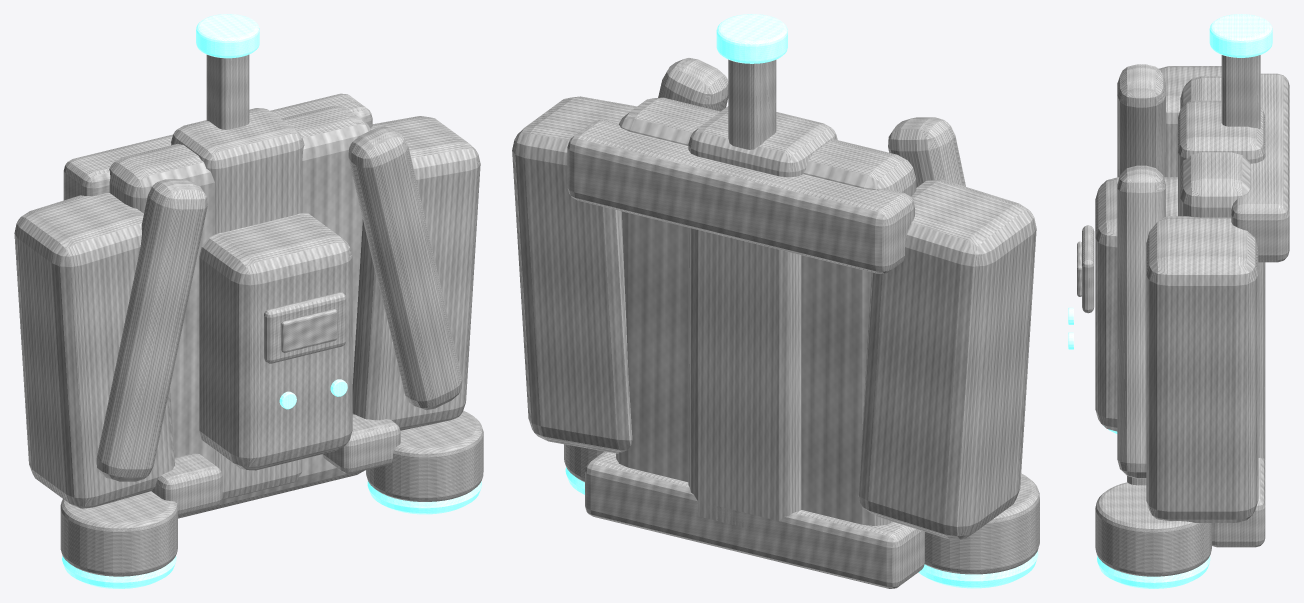
The model's file is hoverpack_variant_d.glb.
The picture shows the model from 3 angles, left to right: view 1: azimuth 30°, elevation 25°; view 2: azimuth 150°, elevation 25°; view 3: azimuth 270°, elevation 25°; orthographic projection. The views are drawn at different scales.
Visible parts, largest first — view 1: Folded stabilizer module, Power receiver housing.003, Dorsal mounting plate.003, Folded stabilizer module.001, Shoulder strap.006, Shoulder strap.007, Central spine armor, Lower lift emitter, Lower lift emitter.001, Shoulder yoke.003, Top wireless pickup mast, Lower strap clasp.006 (+6 smaller); view 2: Folded stabilizer module, Dorsal mounting plate.003, Central spine armor, Folded stabilizer module.001, Shoulder yoke.003, Waist stabilizer.003, Lower lift emitter, Top wireless pickup mast, Shoulder strap.006, Pickup antenna cap, Shoulder strap.007, Emitter rim.001 (+1 smaller); view 3: Folded stabilizer module.001, Shoulder strap.007, Lower lift emitter.001, Shoulder yoke.003, Power receiver housing.003, Central spine armor, Dorsal mounting plate.003, Shoulder strap.006, Top wireless pickup mast, Pickup antenna cap, Folded stabilizer module, Waist stabilizer.003 (+2 smaller).
Boxes of the visible parts, x1,y1,x2,y2 form: Folded stabilizer module: [14, 193, 174, 508]; Power receiver housing.003: [199, 213, 352, 470]; Dorsal mounting plate.003: [109, 106, 370, 518]; Folded stabilizer module.001: [352, 116, 480, 430]; Shoulder strap.006: [96, 179, 207, 481]; Shoulder strap.007: [348, 126, 462, 410]; Central spine armor: [171, 108, 304, 499]; Lower lift emitter: [60, 491, 177, 576]; Lower lift emitter.001: [366, 410, 483, 501]; Shoulder yoke.003: [63, 93, 372, 200]; Top wireless pickup mast: [206, 54, 249, 129]; Lower strap clasp.006: [151, 453, 222, 515]; Folded stabilizer module: [858, 179, 1036, 539]; Dorsal mounting plate.003: [616, 97, 916, 525]; Central spine armor: [688, 106, 837, 528]; Folded stabilizer module.001: [512, 96, 636, 453]; Shoulder yoke.003: [567, 120, 914, 273]; Waist stabilizer.003: [585, 451, 924, 588]; Lower lift emitter: [924, 473, 1039, 574]; Top wireless pickup mast: [728, 59, 776, 149]; Shoulder strap.006: [888, 117, 965, 187]; Pickup antenna cap: [716, 14, 787, 63]; Shoulder strap.007: [658, 58, 728, 111]; Emitter rim.001: [918, 551, 1038, 588]; Folded stabilizer module.001: [1146, 216, 1258, 522]; Shoulder strap.007: [1117, 165, 1165, 478]; Lower lift emitter.001: [1095, 482, 1211, 576]; Shoulder yoke.003: [1231, 73, 1289, 262]; Power receiver housing.003: [1095, 177, 1177, 431]; Central spine armor: [1178, 100, 1265, 459]; Dorsal mounting plate.003: [1180, 76, 1250, 217]; Shoulder strap.006: [1117, 64, 1165, 177]; Top wireless pickup mast: [1221, 55, 1260, 128]; Pickup antenna cap: [1209, 14, 1272, 57]; Folded stabilizer module: [1158, 66, 1221, 177]; Waist stabilizer.003: [1212, 457, 1265, 547].
Size of what is drawn, in the model's own units: 1 by 1.06 by 0.456.
8 materials, 8 textured.
